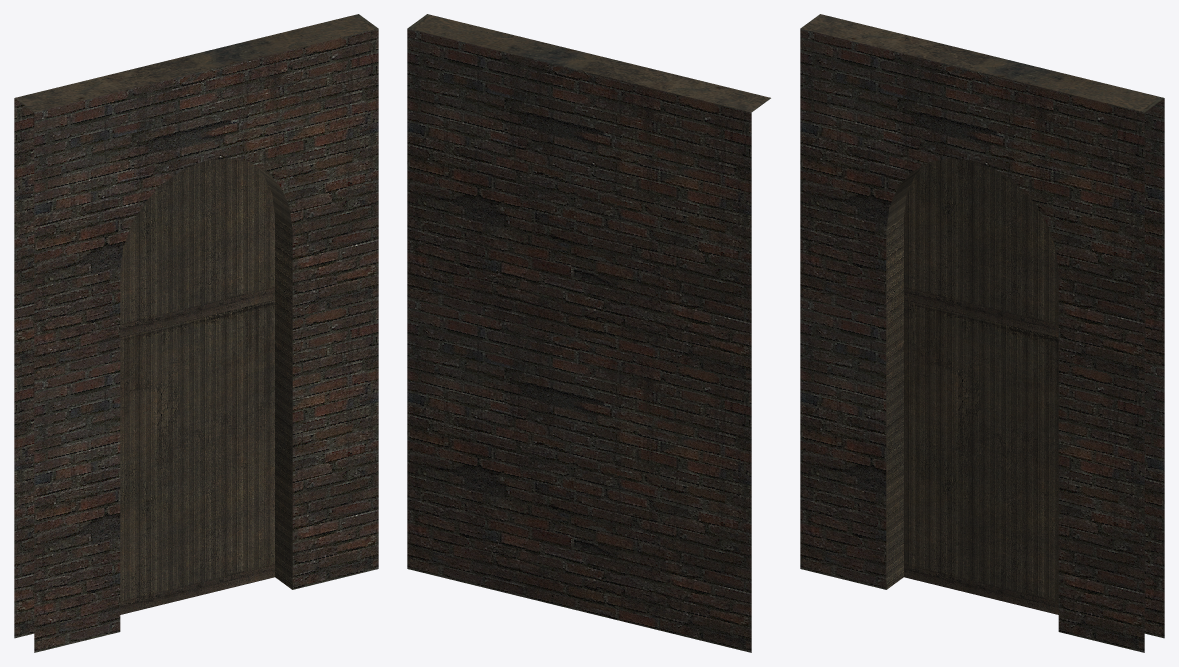
Rendered from wall_hs_15_double.glb.
3 views of the same model, side by side, from view 1: azimuth 30°, elevation 25°; view 2: azimuth 150°, elevation 25°; view 3: azimuth 330°, elevation 25° (orthographic).
Visible parts, largest first — view 1: wall_hs_15_double; view 2: wall_hs_15_double; view 3: wall_hs_15_double.
Boxes of the visible parts, left/top/right/bottom form: wall_hs_15_double: left=14, top=14, right=378, bottom=652; wall_hs_15_double: left=407, top=14, right=770, bottom=652; wall_hs_15_double: left=800, top=14, right=1164, bottom=652.
Bounding box in the file's own units: 4 × 6 × 0.4.
Materials: 3 (3 with a texture image).
